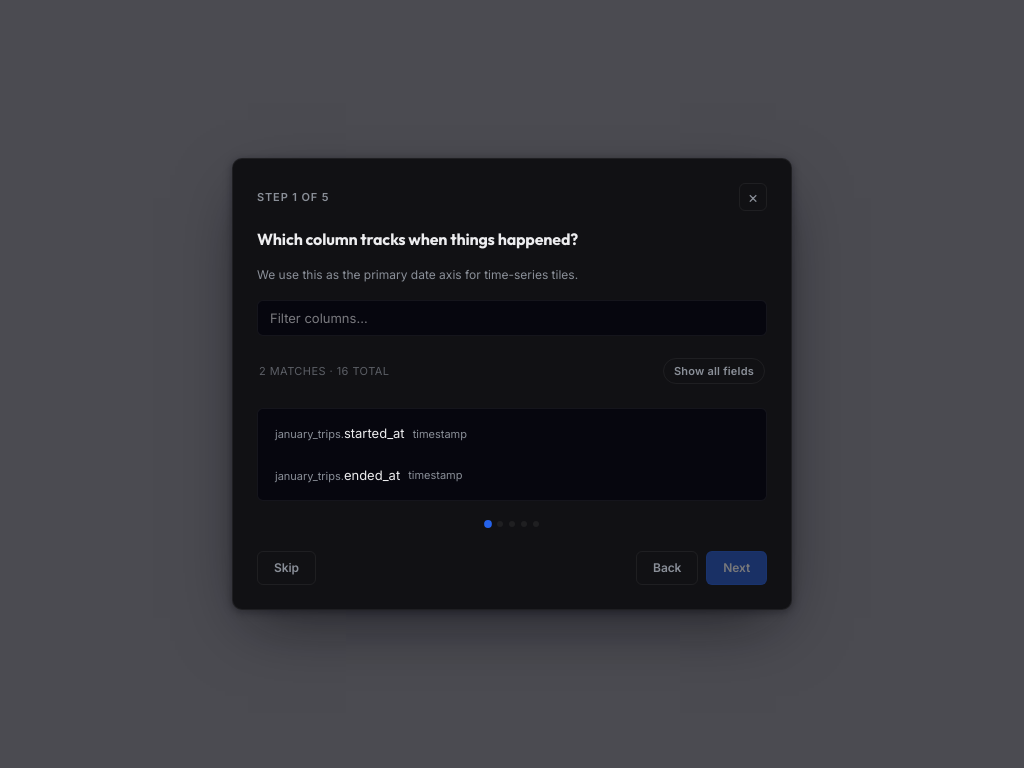
Scenario: SemanticTagWizard › real backend schema (no role field) › every picker displays the full catalog via the "Show all fields" fallback
The width and height of the screenshot is (1024, 768).
The toggle exists on every step.
Click the button with test id "semantic-wizard-show-all" at (714, 371), box x1=663 y1=358 x2=765 y2=384
(page scrolled)
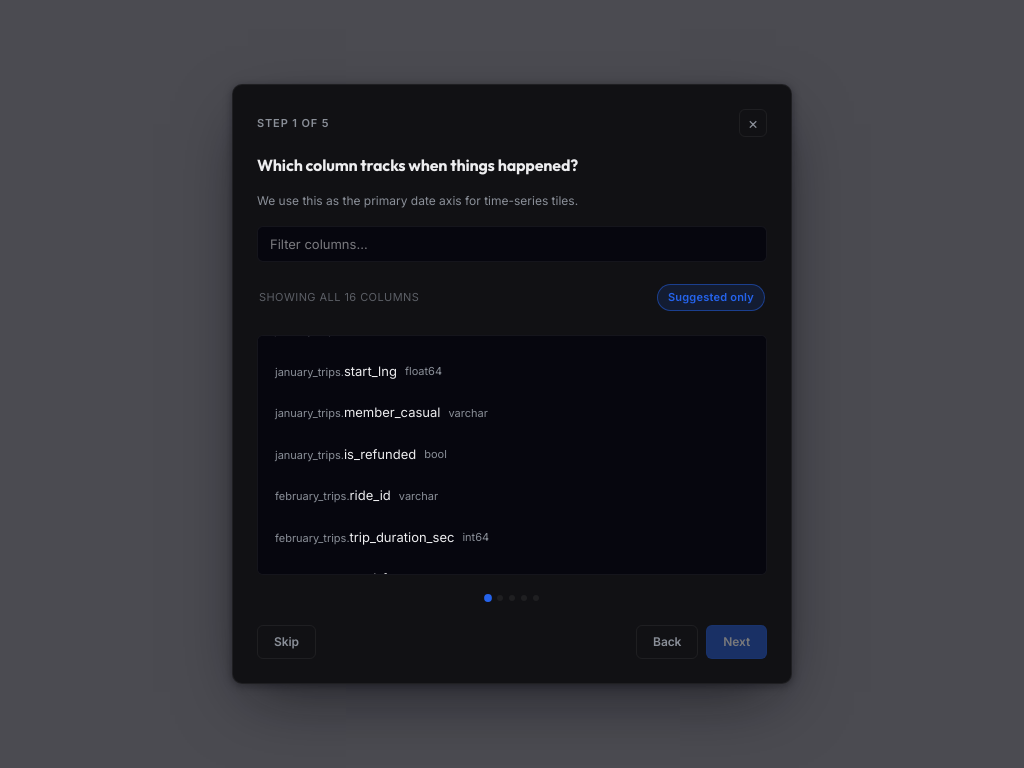
Expected: the option with test id "semantic-wizard-option-january_trips.member_casual" is shown, x1=264 y1=394 x2=499 y2=432
